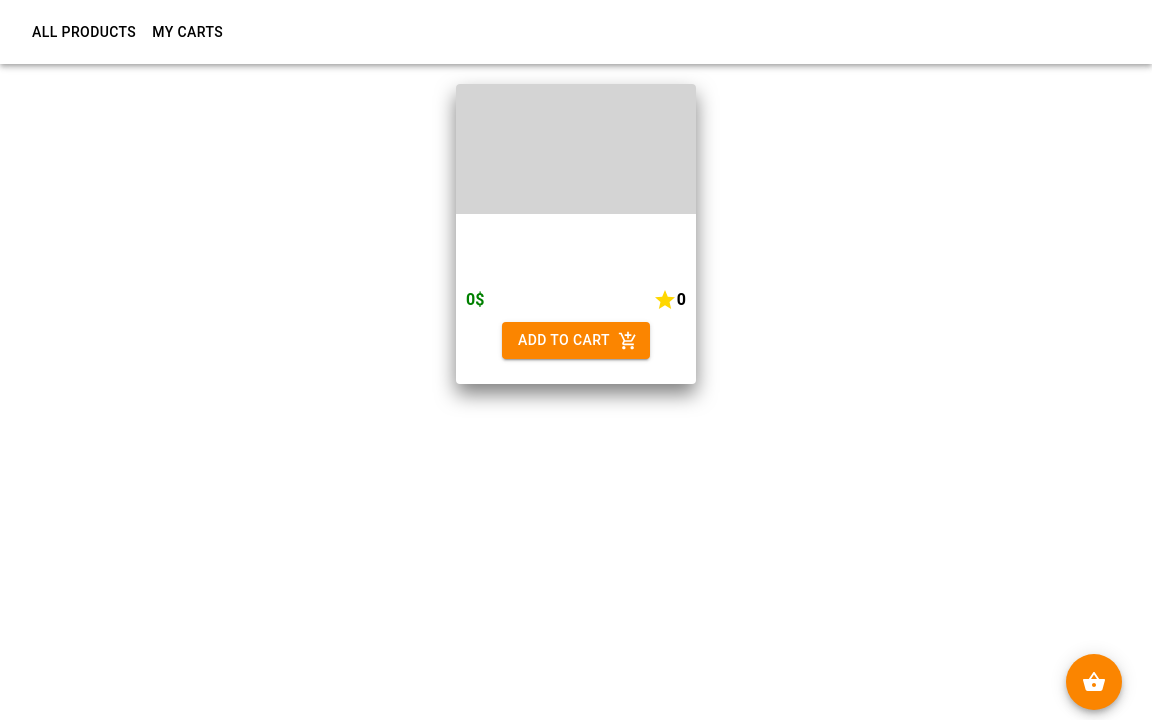
Test: `MY CARTS` PAGE TEST › Check if cart details has opened correctly
Click the button "My carts" at (188, 33), box 144,14 -> 231,51
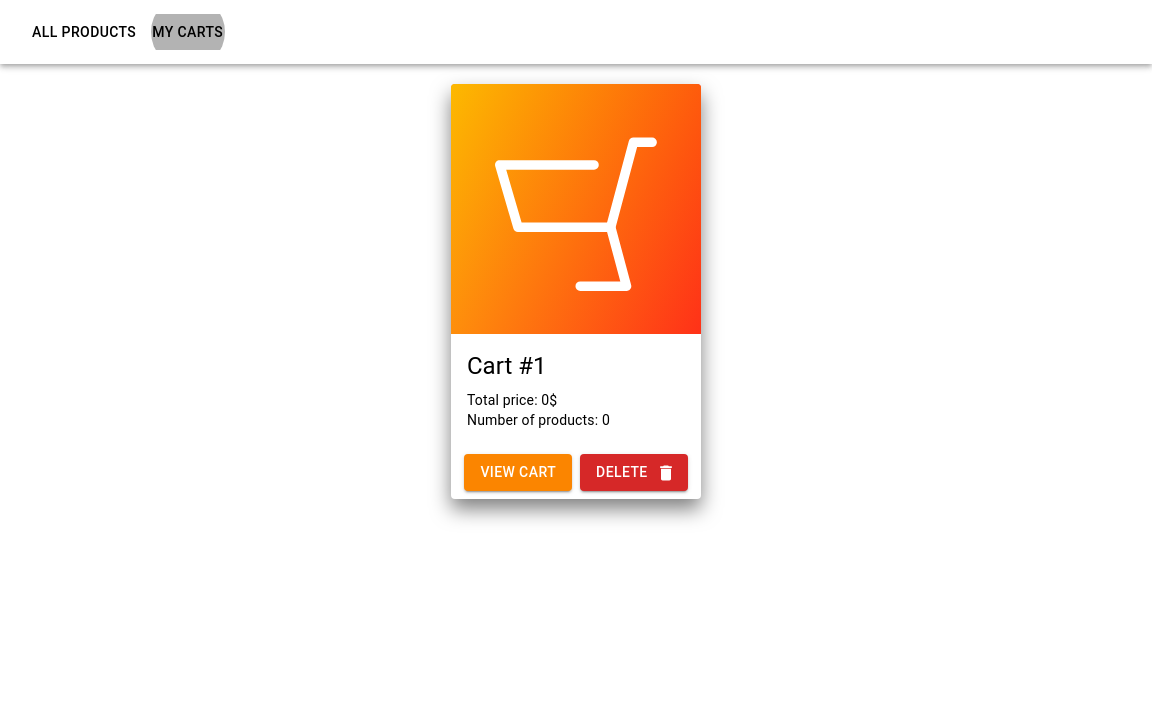
Click the button with test id "viewCartButton" at (518, 473), box 464,454 -> 572,491
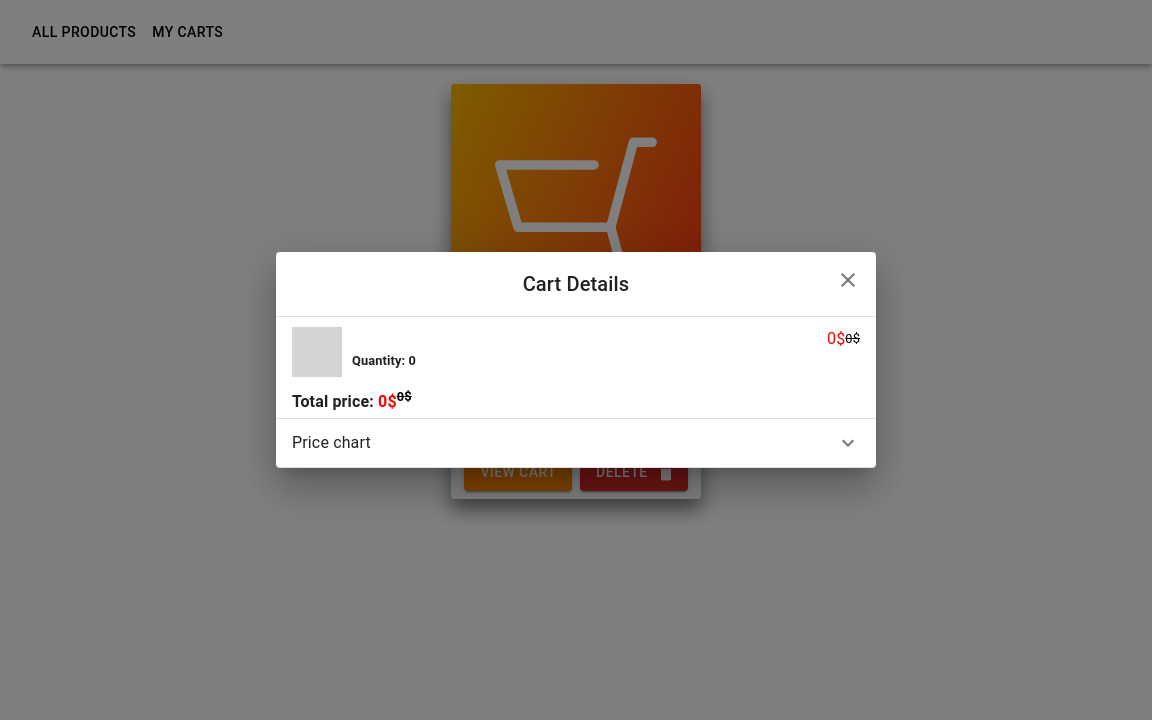
Expected: the heading "Cart Details" is shown, 523,260 -> 868,300
